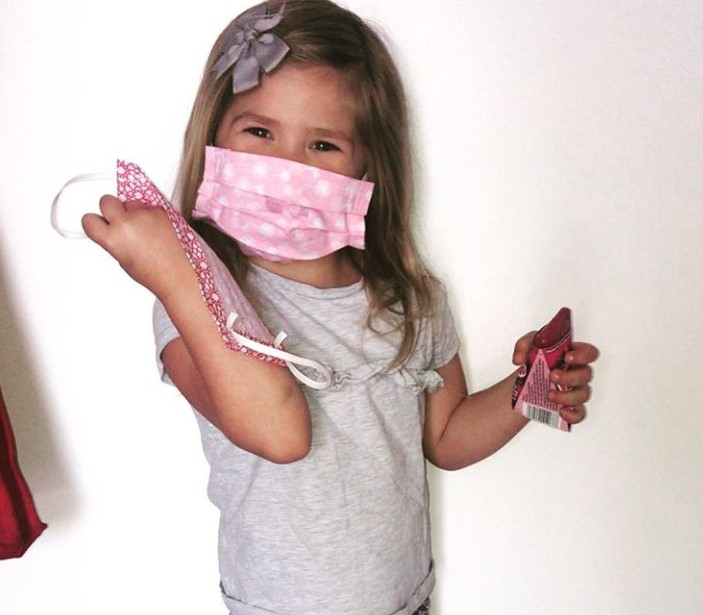face_with_mask: (191, 4, 395, 270)
